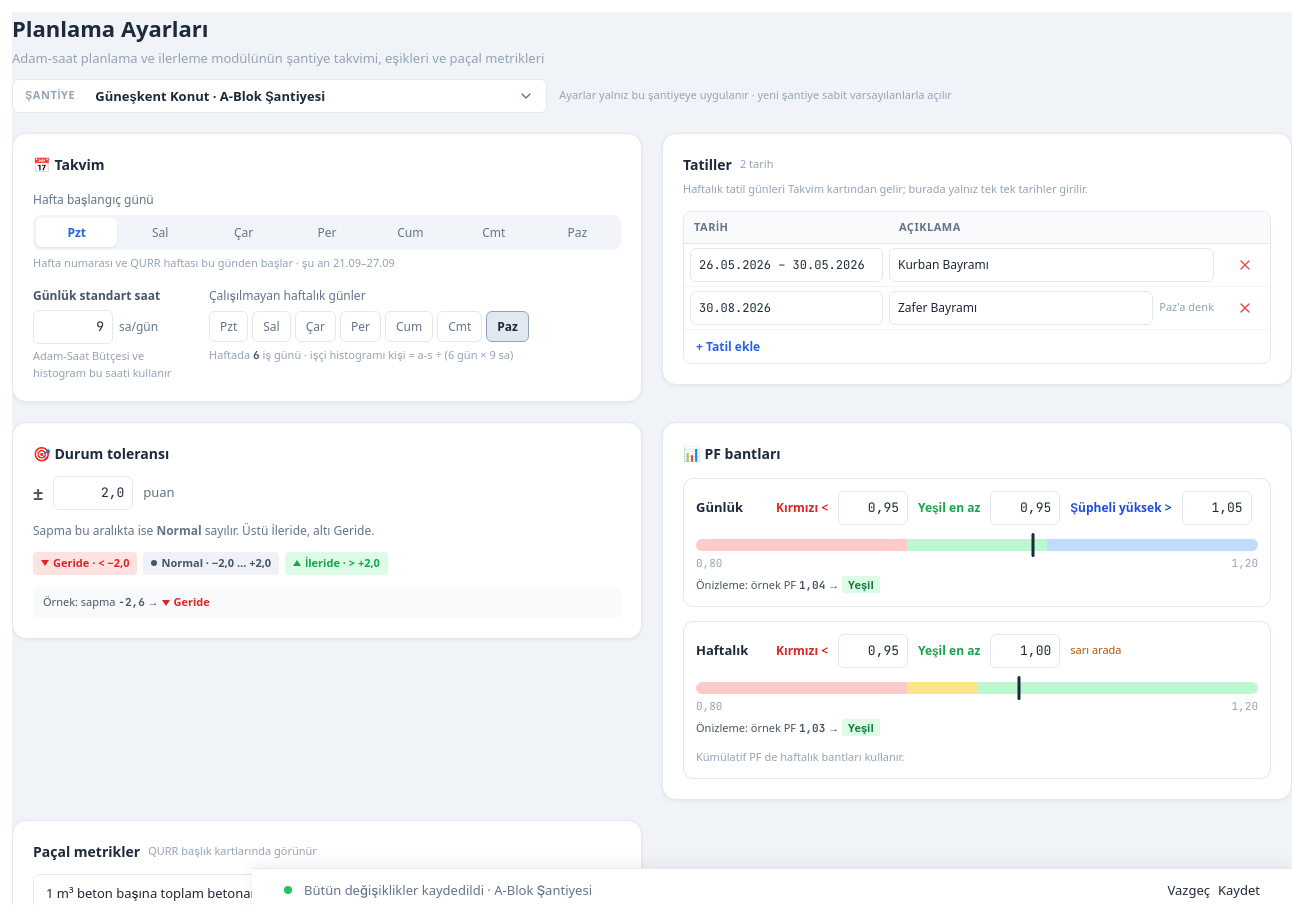
Test case: PlanningSettingsScreen · önizleme (pfBand / varianceStatus) › günlük varsayılanda örnek PF 1,04 Yeşil; yeşil 1,05'e çıkınca Sarı olur
Check: the field showing "Kurban Bayramı" is shown, box [889,248,1214,282]
Check: the text with test id "pf-preview-badge" next to "1,04" reads "Yeşil", box [848,577,874,592]
Replace the text in the field named "Günlük yeşil eşiği" with "1,05": (1025, 508) [990,491,1060,525]
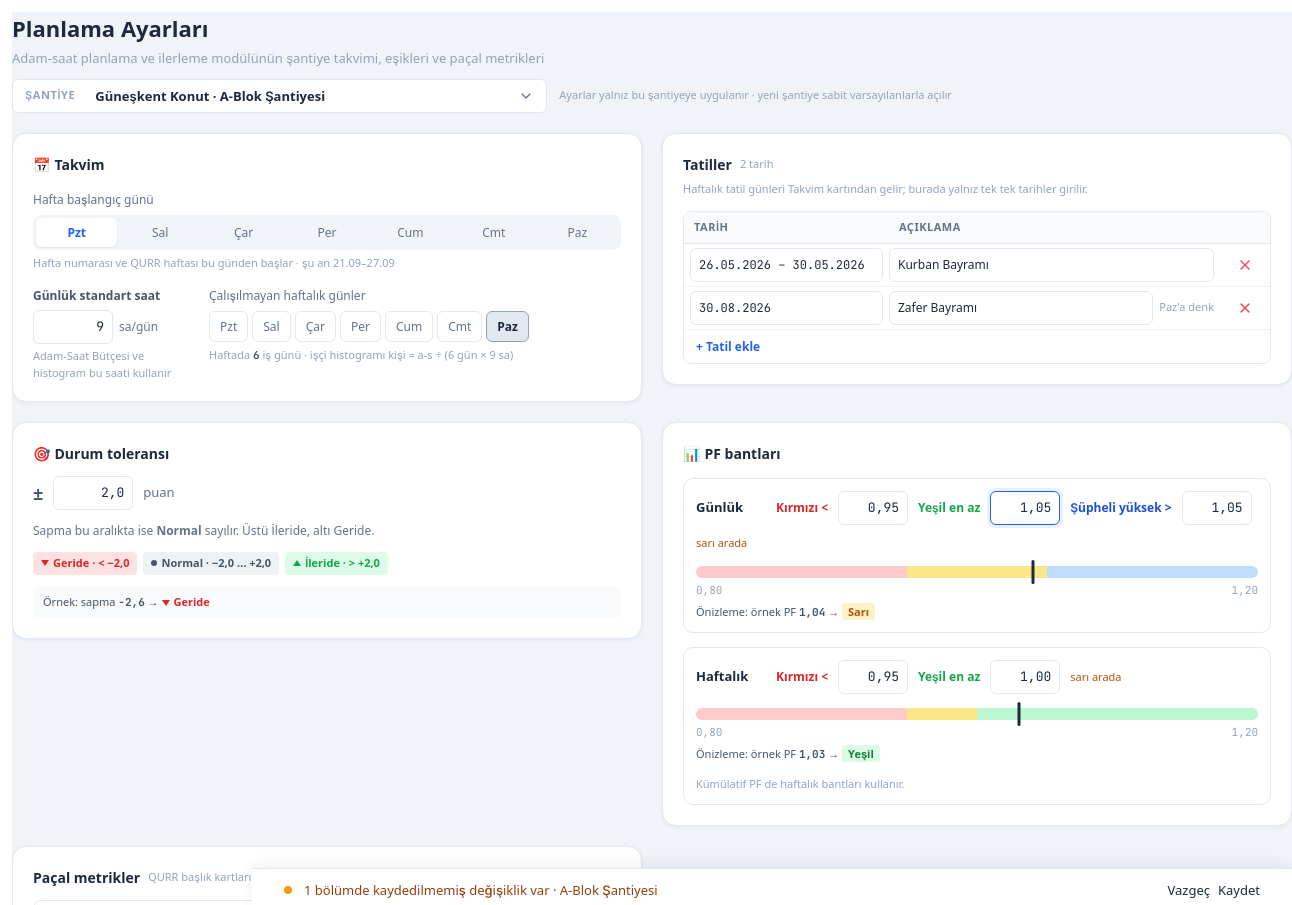
Check: the text with test id "pf-preview-badge" reads "Sarı", box [848,604,869,618]
Check: the 1st text "sarı arada" is shown, box [696,535,747,552]
